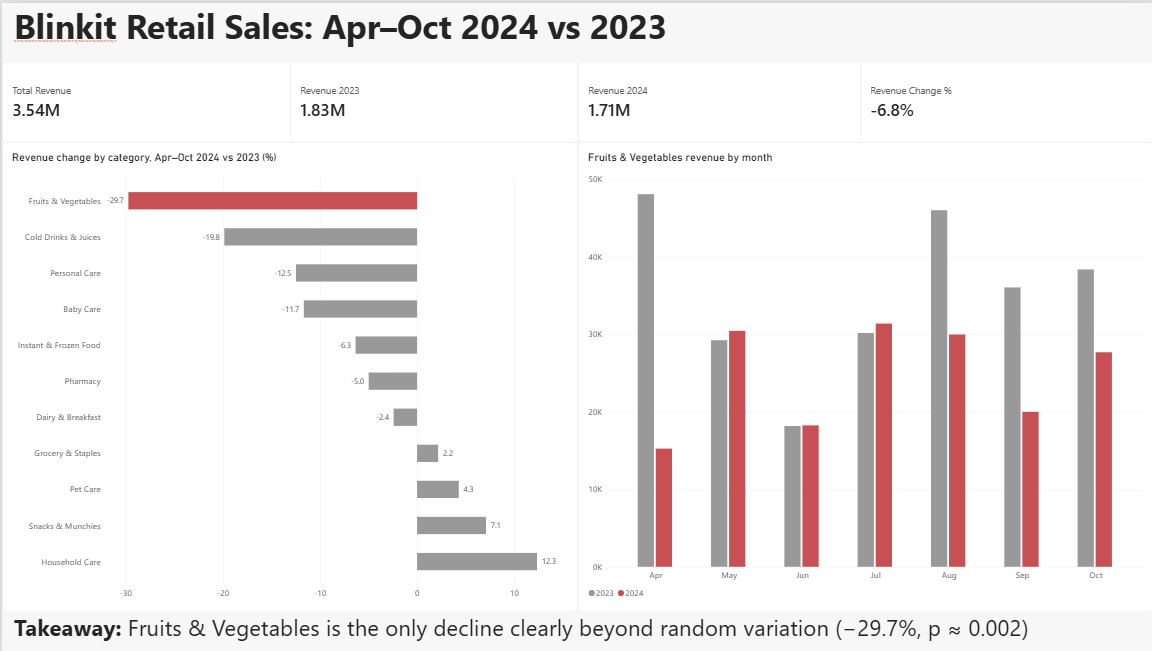

This screenshot's page, from the dashboard's own definition file:
{"tool":"powerbi","page":{"name":"Sales and categories","canvas":[1920,1080],"ordinal":0},"visuals":[{"type":"cardVisual","fields":{"Data":["analysis_orders.Total Revenue"]},"box":[0,97.5,490,135],"z":0},{"type":"cardVisual","fields":{"Data":["analysis_orders.Revenue 2023"]},"box":[480,97.5,480,135],"z":1000},{"type":"cardVisual","fields":{"Data":["analysis_orders.Revenue 2024"]},"box":[960,97.5,480,135],"z":2000},{"type":"cardVisual","fields":{"Data":["analysis_orders.Revenue Change %"]},"box":[1430,97.5,490,135],"z":3000},{"type":"clusteredBarChart","title":"Revenue change by category, Apr–Oct 2024 vs 2023 (%)","fields":{"Category":["category_yoy.category"],"Y":["Sum(category_yoy.pct_change)"]},"box":[0,232.5,960,782.5],"z":4000},{"type":"clusteredColumnChart","title":"Fruits & Vegetables revenue by month","fields":{"Category":["analysis_orders.month_name"],"Series":["analysis_orders.year"],"Y":["analysis_orders.Total Revenue"]},"box":[960,232.5,960,782.5],"z":5000},{"type":"textbox","box":[20,0,1097.5,97.5],"z":6000},{"type":"textbox","box":[20,1015,1900,65],"z":7000}]}

Visuals, with their boxes in screenshot pixels (x1, y1, x2, y2), scaled from the page's 1920x1080 canvas onto the 1152x651 screenshot:
cardVisual - analysis_orders.Total Revenue: {"left": 0, "top": 59, "right": 294, "bottom": 140}
cardVisual - analysis_orders.Revenue 2023: {"left": 288, "top": 59, "right": 576, "bottom": 140}
cardVisual - analysis_orders.Revenue 2024: {"left": 576, "top": 59, "right": 864, "bottom": 140}
cardVisual - analysis_orders.Revenue Change %: {"left": 858, "top": 59, "right": 1151, "bottom": 140}
"Revenue change by category, Apr–Oct 2024 vs 2023 (%)" clusteredBarChart: {"left": 0, "top": 140, "right": 576, "bottom": 612}
"Fruits & Vegetables revenue by month" clusteredColumnChart: {"left": 576, "top": 140, "right": 1151, "bottom": 612}
textbox: {"left": 12, "top": 0, "right": 670, "bottom": 59}
textbox: {"left": 12, "top": 612, "right": 1151, "bottom": 650}
